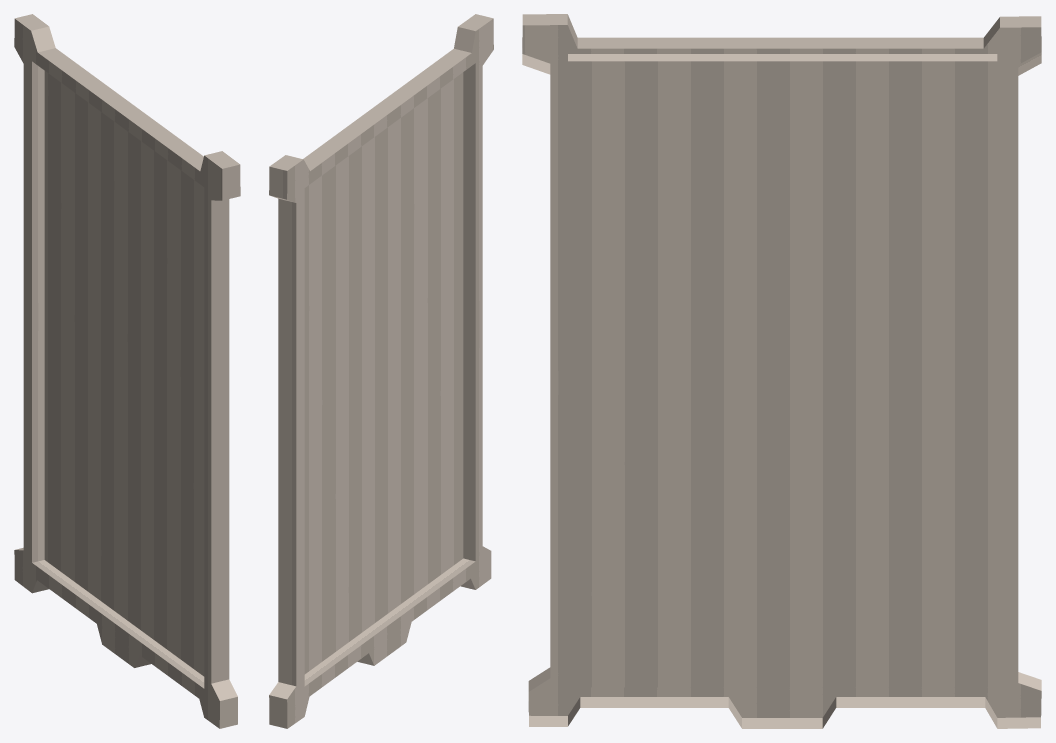
File: Props_Painting.fbx
The picture shows the model from 3 angles, left to right: view 1: azimuth 30°, elevation 25°; view 2: azimuth 150°, elevation 25°; view 3: azimuth 270°, elevation 25°; orthographic projection. The views are drawn at different scales.
Parts seen in each view (by area): view 1: Props_Painting; view 2: Props_Painting; view 3: Props_Painting.
Boxes of the visible parts, left/top/right/bottom form: Props_Painting: left=14, top=14, right=240, bottom=728; Props_Painting: left=269, top=14, right=493, bottom=728; Props_Painting: left=522, top=14, right=1041, bottom=728.
Size of the model in its own units: 0.1409 by 4.19 by 2.8.
